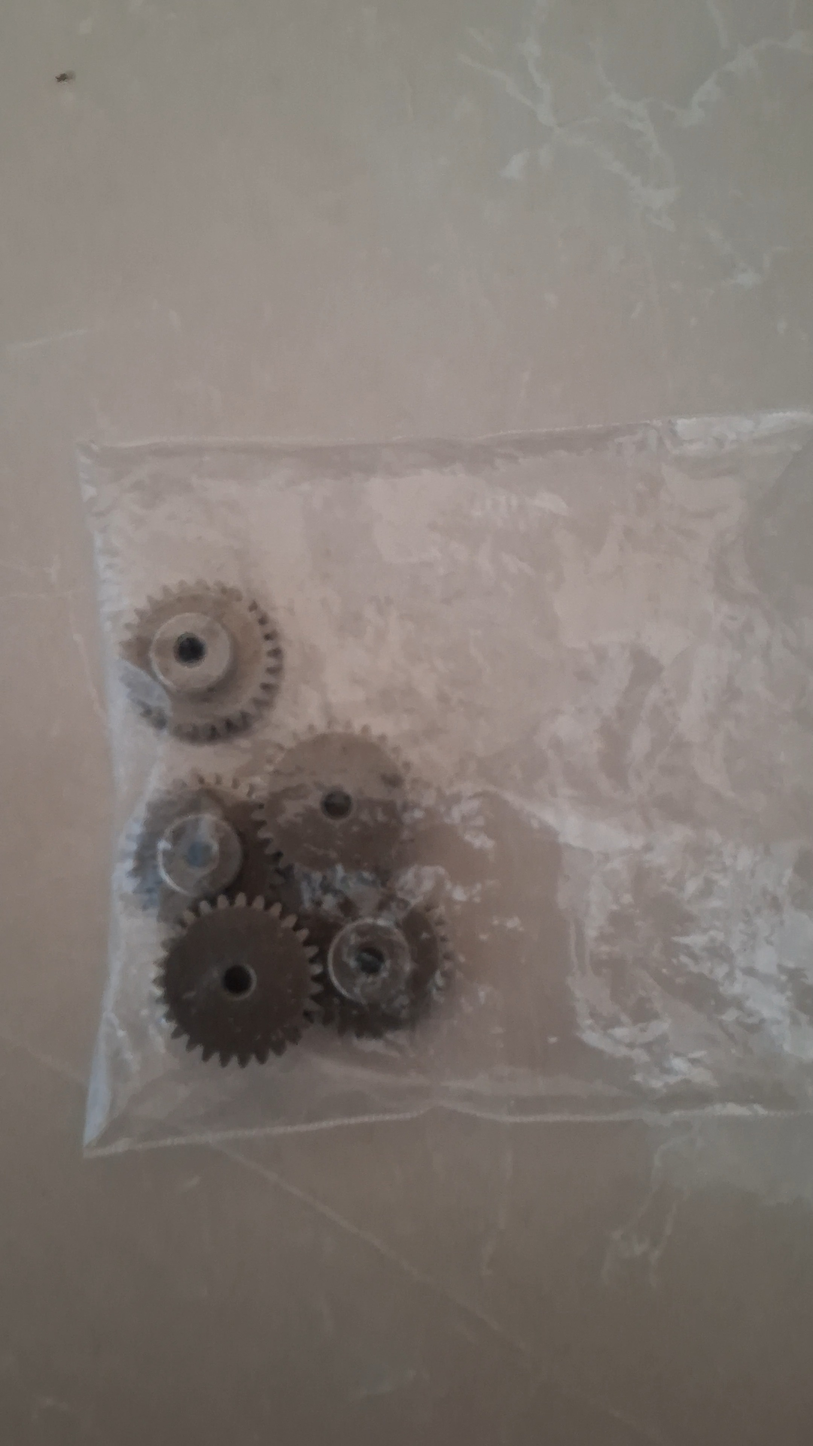spur gear: (157, 894, 318, 1066), (121, 583, 282, 741), (129, 775, 286, 920), (258, 730, 406, 875), (320, 899, 452, 1037)
